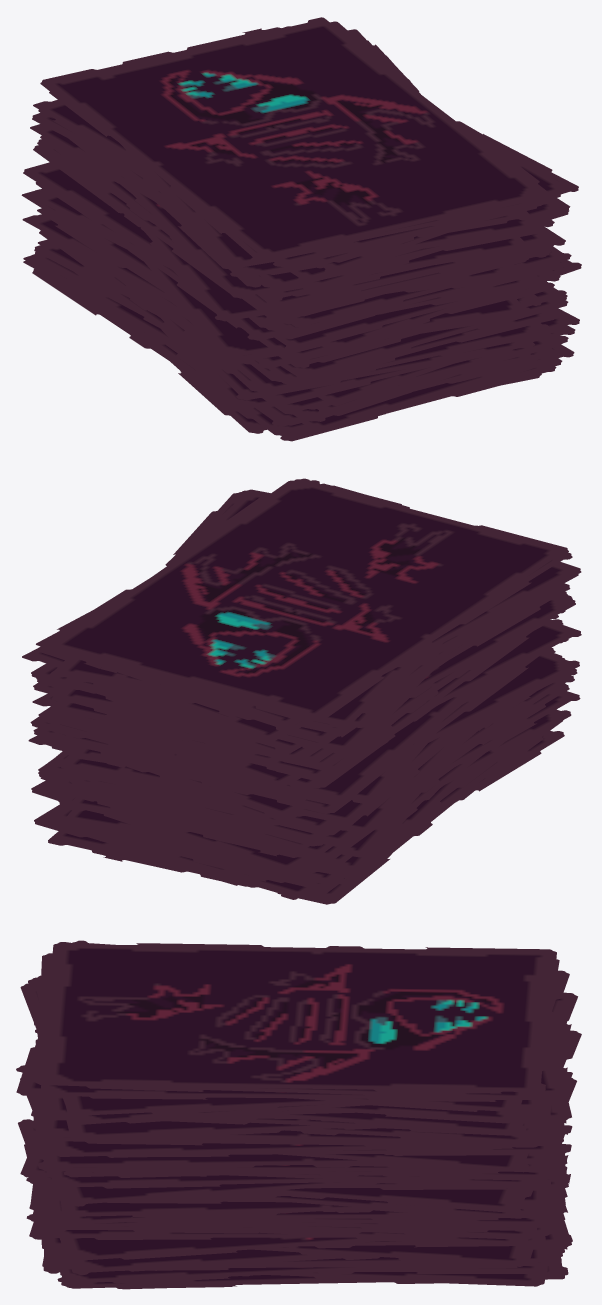
File: Cards.fbx
The picture shows the model from 3 angles, top to bottom: view 1: azimuth 30°, elevation 25°; view 2: azimuth 150°, elevation 25°; view 3: azimuth 270°, elevation 25°; orthographic projection. The views are drawn at different scales.
Visible parts, largest first — view 1: Cards; view 2: Cards; view 3: Cards.
Part boxes in pixels (x1,y1,x2,y2): Cards: [21, 17, 581, 441]; Cards: [22, 478, 581, 904]; Cards: [16, 940, 581, 1289].
Bounding box in the file's own units: 255 × 126 × 335.
Materials: 1 (1 with a texture image).
